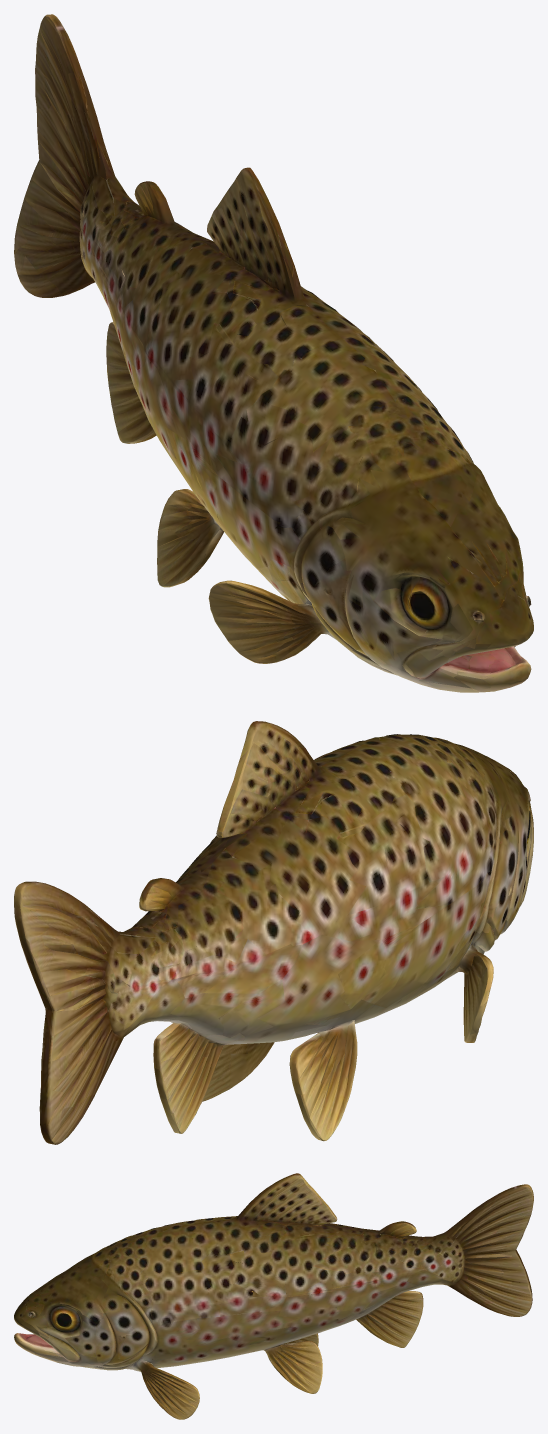
Rendered from alabalik.glb.
3 renders of one model, top to bottom at view 1: azimuth 30°, elevation 25°; view 2: azimuth 150°, elevation 25°; view 3: azimuth 270°, elevation 25°, orthographic. The views are drawn at different scales.
Parts seen in each view (by area): view 1: output_unwrapped; view 2: output_unwrapped; view 3: output_unwrapped.
Part boxes in pixels (box(x1,y1,x2,y2)): output_unwrapped: box(14, 14, 533, 692); output_unwrapped: box(14, 721, 533, 1144); output_unwrapped: box(14, 1173, 533, 1419).
Size of the model in its own units: 0.5297 by 0.9034 by 1.9.
Materials: 1 (1 with a texture image).
